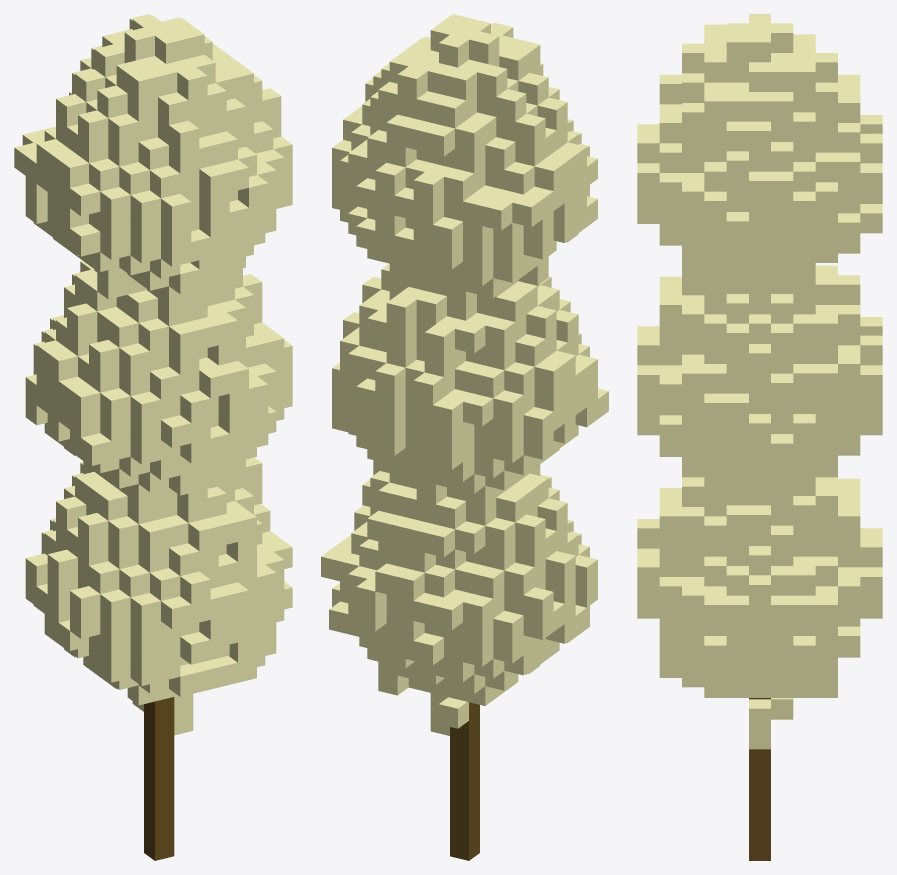
File: tamago7.fbx
3 renders of one model, left to right at view 1: azimuth 30°, elevation 25°; view 2: azimuth 150°, elevation 25°; view 3: azimuth 270°, elevation 25°, orthographic.
Parts seen in each view (by area): view 1: ObjObject; view 2: ObjObject; view 3: ObjObject.
Boxes of the visible parts, bbox=[...] form: ObjObject: bbox=[14, 14, 292, 860]; ObjObject: bbox=[321, 14, 608, 860]; ObjObject: bbox=[637, 14, 882, 860].
Bounding box in the file's own units: 110 × 410 × 110.
Materials: 1 (1 with a texture image).
